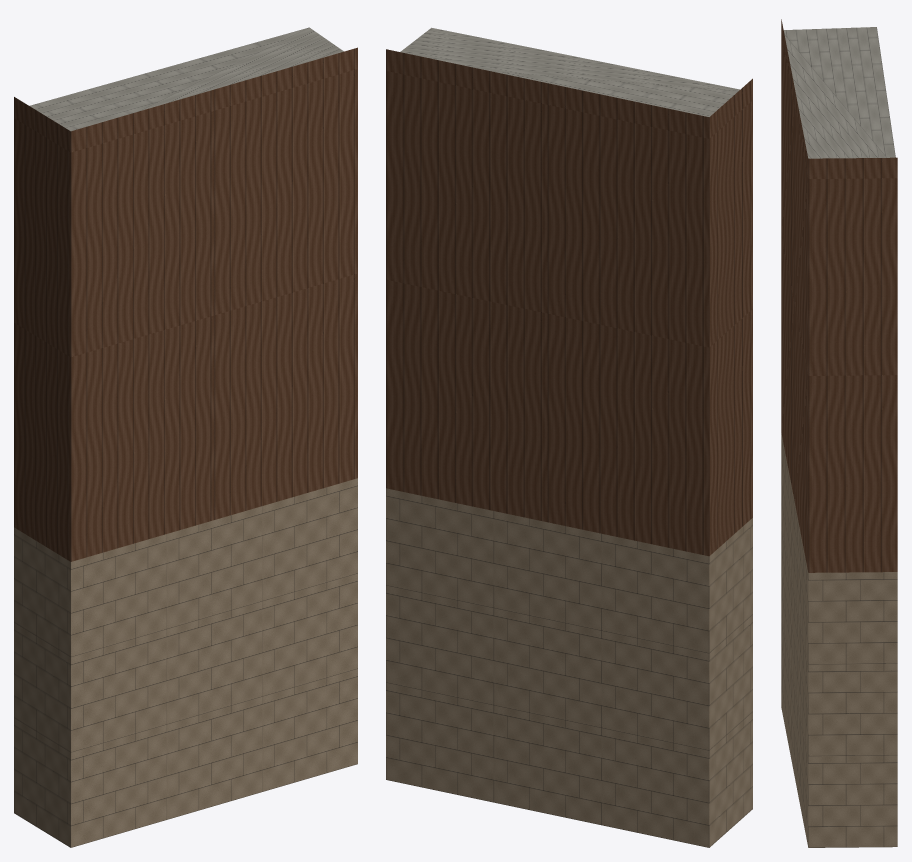
The model's file is bld_c1_-1_537.gltf.
3 views of the same model, side by side, from view 1: azimuth 30°, elevation 25°; view 2: azimuth 150°, elevation 25°; view 3: azimuth 270°, elevation 25° (orthographic). The views are drawn at different scales.
Parts seen in each view (by area): view 1: bld_c1_-1_537; view 2: bld_c1_-1_537; view 3: bld_c1_-1_537.
Part boxes in pixels (x1,y1,x2,y2): bld_c1_-1_537: [14, 27, 357, 847]; bld_c1_-1_537: [386, 27, 752, 847]; bld_c1_-1_537: [781, 19, 897, 847].
Bounding box in the file's own units: 5.75 × 12.78 × 1.96.
4 materials, 4 textured.
